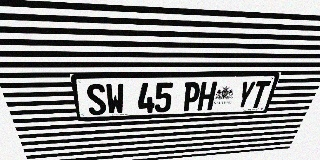4: (138, 83, 155, 113)
5: (155, 82, 173, 112)
H: (197, 82, 217, 111)
P: (181, 82, 201, 111)
S: (85, 83, 107, 115)
T: (248, 81, 271, 108)
W: (105, 83, 125, 115)
Y: (234, 81, 257, 109)
